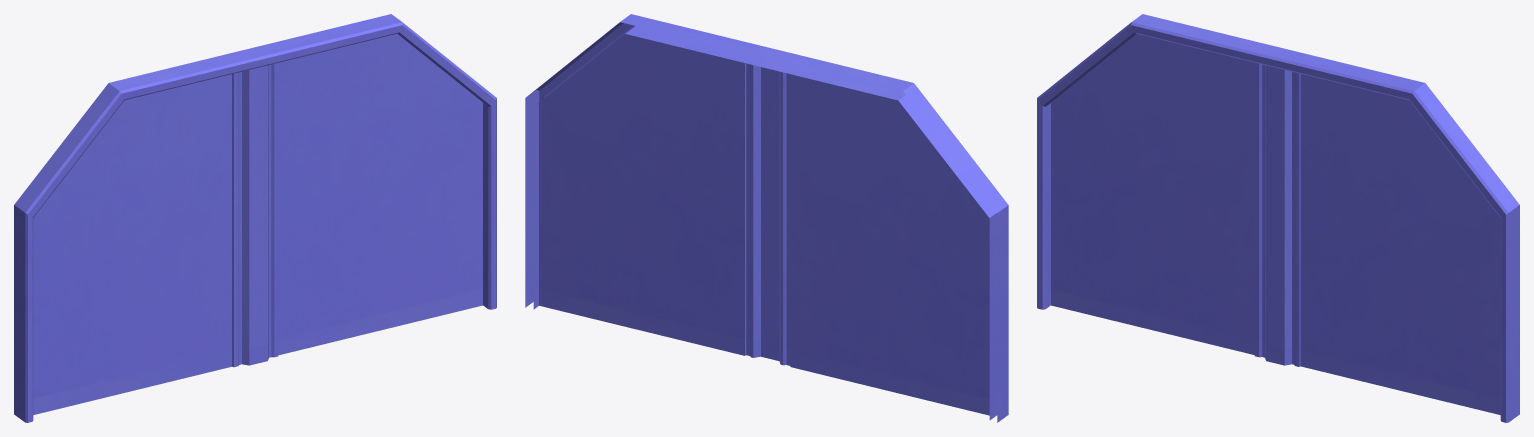
Rendered from Gate1.fbx.
The picture shows the model from 3 angles, left to right: view 1: azimuth 30°, elevation 25°; view 2: azimuth 150°, elevation 25°; view 3: azimuth 330°, elevation 25°; orthographic projection.
Visible parts, largest first — view 1: Cube.006, Cube.005; view 2: Cube.006, Cube.005; view 3: Cube.006, Cube.005.
Part boxes in pixels (x1,y1,x2,y2): Cube.006: (33,34,482,414); Cube.005: (14,14,496,422); Cube.006: (539,34,989,415); Cube.005: (525,14,1008,422); Cube.006: (1051,34,1500,414); Cube.005: (1037,14,1519,422).
Bounding box in the file's own units: 800 × 500 × 35.71.
